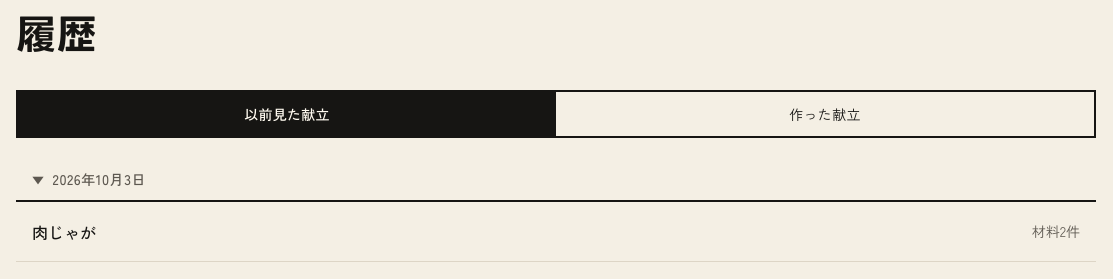
Test: 履歴タブ HistoryTab › 作った側に切り替えると、以前見た献立の行は消える
Click the button "作った献立" at (825, 114), box [556,92,1094,136]
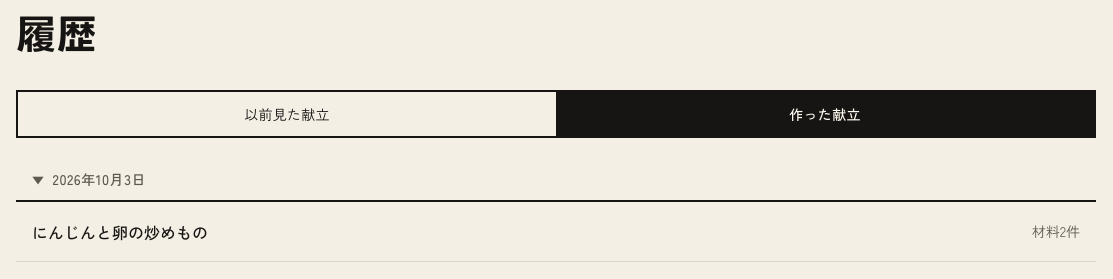
Expected: the button "肉じゃが" is gone
